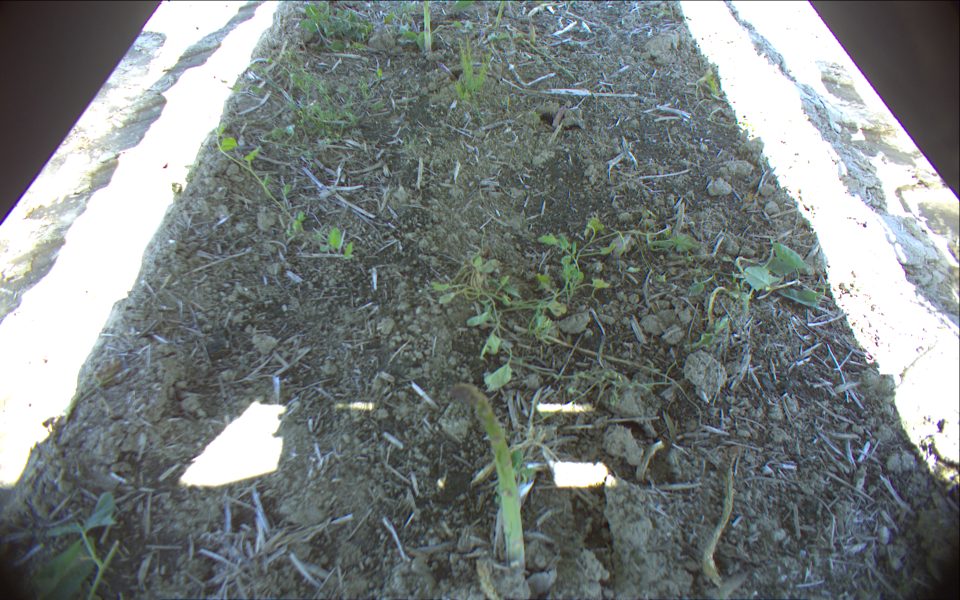aspa: (446, 380, 526, 581), (420, 1, 434, 55)
